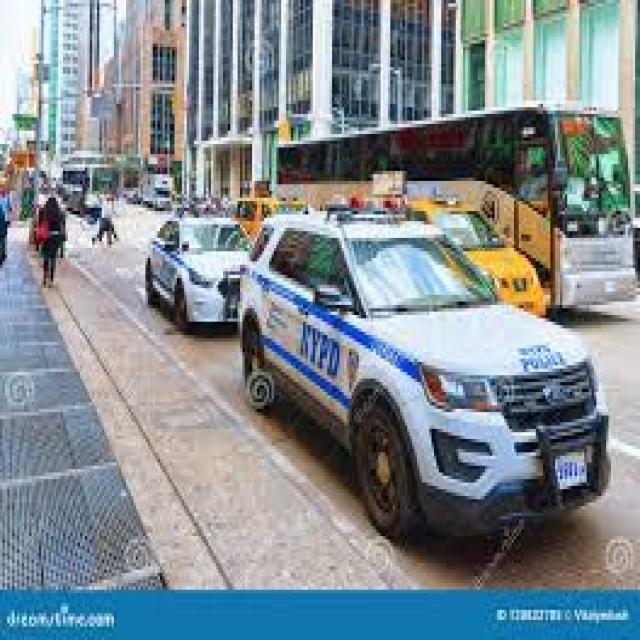cop: (239, 206, 614, 548), (144, 210, 252, 330)
